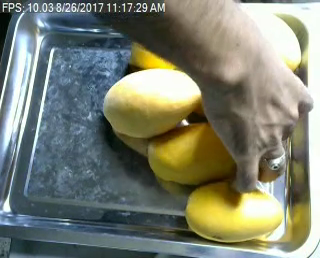Mango: (103, 68, 202, 135), (147, 122, 239, 183), (186, 182, 281, 240), (128, 39, 178, 72)
